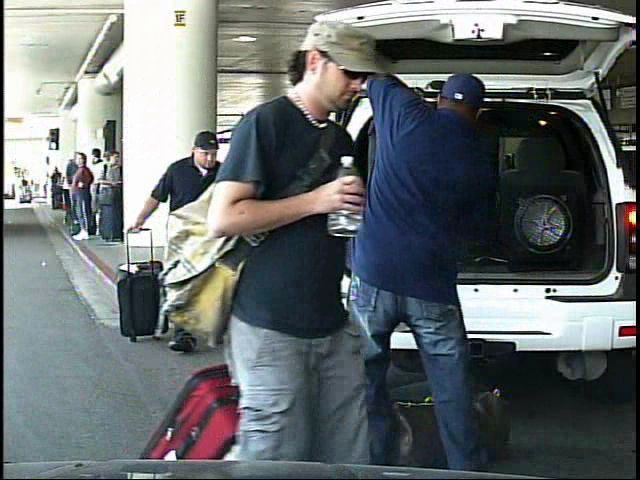person: (194, 19, 385, 480), (333, 38, 525, 478), (125, 125, 247, 356), (13, 174, 24, 205)
